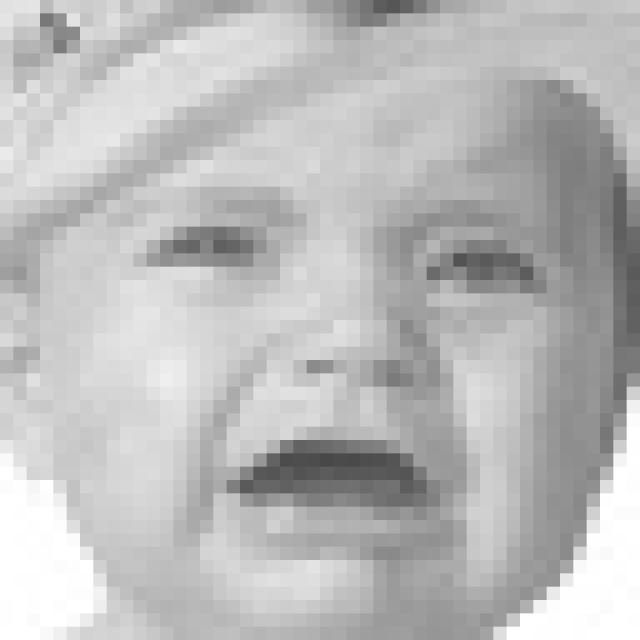sad: (134, 178, 568, 566)
